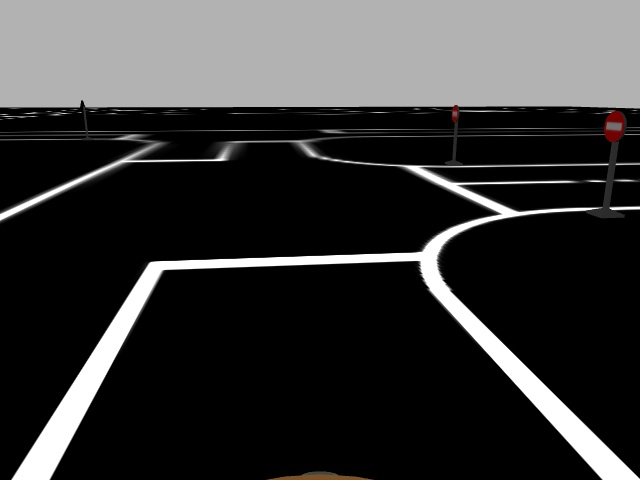prohibited: (601, 106, 628, 147)
